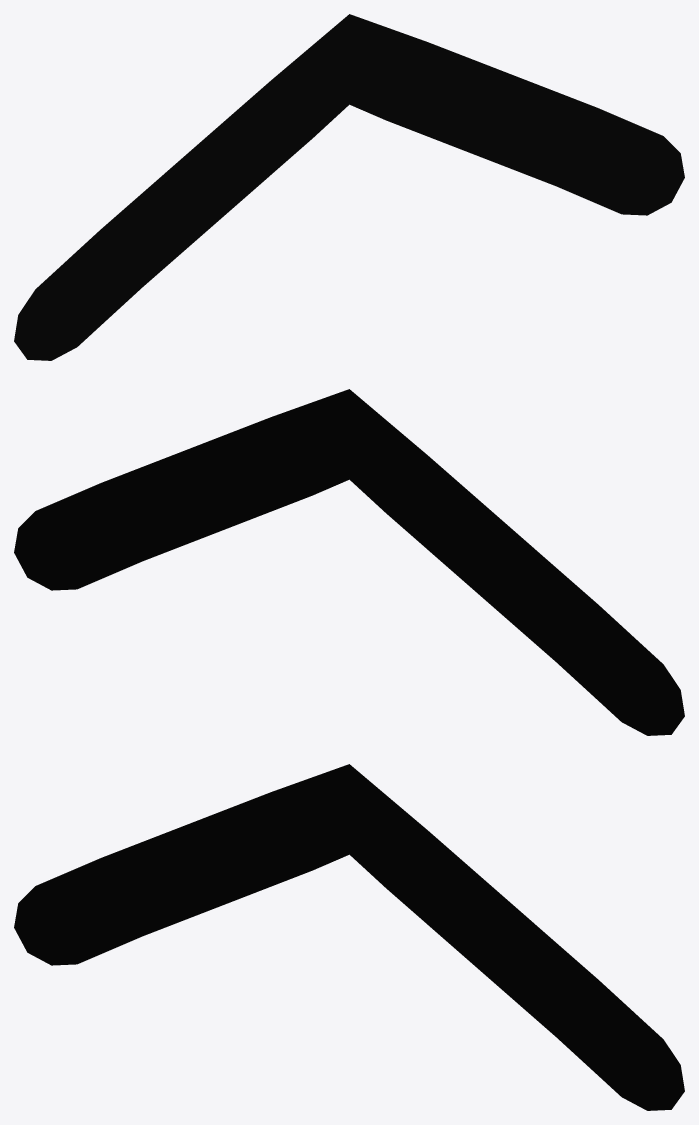
File: 05-Whimsy-Mochi-doll-Worry-Pout-swirls-face-mouth.glb
The picture shows the model from 3 angles, top to bottom: view 1: azimuth 30°, elevation 25°; view 2: azimuth 150°, elevation 25°; view 3: azimuth 330°, elevation 25°; orthographic projection.
Visible parts, largest first — view 1: 05-Whimsy-Mochi-doll-Worry-Pout-swirls-face-mouth; view 2: 05-Whimsy-Mochi-doll-Worry-Pout-swirls-face-mouth; view 3: 05-Whimsy-Mochi-doll-Worry-Pout-swirls-face-mouth.
Boxes of the visible parts, x1=… form: 05-Whimsy-Mochi-doll-Worry-Pout-swirls-face-mouth: x1=14, y1=14, x2=684, y2=360; 05-Whimsy-Mochi-doll-Worry-Pout-swirls-face-mouth: x1=14, y1=389, x2=684, y2=735; 05-Whimsy-Mochi-doll-Worry-Pout-swirls-face-mouth: x1=14, y1=764, x2=684, y2=1110.
Size of the model in its own units: 0.1696 by 0.0662 by 5.96e-08.
Materials: 1 (1 with a texture image).
